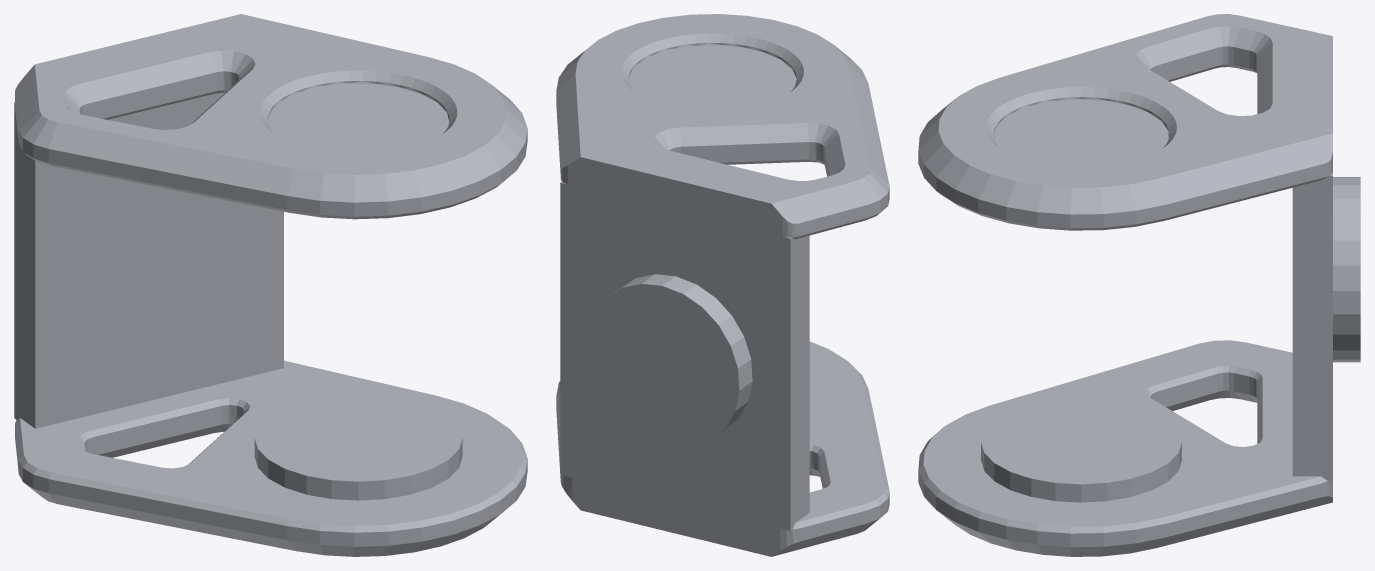
File: link_1__silver.glb
3 renders of one model, left to right at view 1: azimuth 30°, elevation 25°; view 2: azimuth 150°, elevation 25°; view 3: azimuth 270°, elevation 25°, orthographic. The views are drawn at different scales.
Visible parts, largest first — view 1: link_1.STL; view 2: link_1.STL; view 3: link_1.STL.
Boxes of the visible parts, <box> form: link_1.STL: <box>14,14,527,556</box>; link_1.STL: <box>556,14,889,556</box>; link_1.STL: <box>918,14,1360,556</box>.
Size of the model in its own units: 0.0898 by 0.081 by 0.0879.
Materials: 1 (1 with a texture image).
